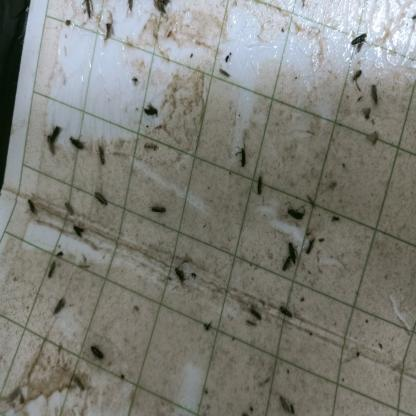prays_oleae: (286, 203, 311, 225), (50, 294, 70, 320), (368, 81, 386, 108), (142, 103, 164, 125), (173, 262, 189, 292), (349, 28, 368, 53), (70, 223, 92, 244), (304, 234, 316, 272), (234, 144, 250, 170), (279, 300, 295, 326), (88, 345, 111, 363), (95, 142, 110, 169), (24, 197, 43, 218), (68, 134, 88, 153), (286, 236, 300, 262), (42, 134, 57, 158), (47, 259, 63, 281), (278, 250, 292, 275), (256, 171, 268, 200), (48, 119, 64, 140), (150, 204, 170, 219), (72, 372, 84, 396), (94, 190, 108, 210), (278, 392, 291, 411), (251, 304, 263, 322), (354, 64, 362, 90)
